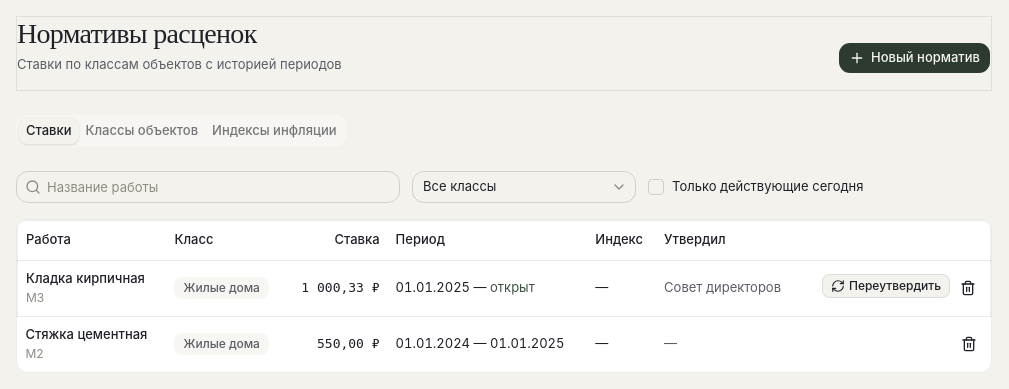
Test case: Экран «Нормативы» (§7.3) › фильтр «действующие сегодня» отсекает закрытый период
The width and height of the screenshot is (1009, 389).
Check: the text "Стяжка цементная" is shown, box [26, 325, 158, 344]
Именно checkbox: Label с тем же текстом тоже находится по имени.
Click the checkbox named "Только действующие сегодня" at point(656, 187), box [648, 179, 664, 195]
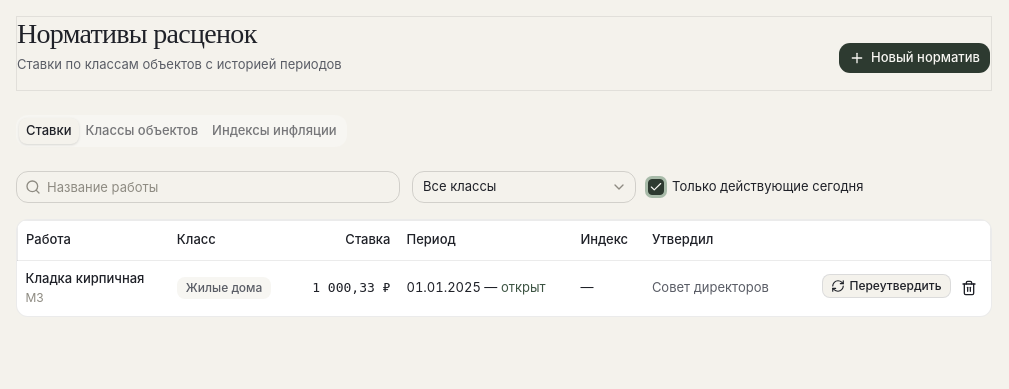
Check: the text "Кладка кирпичная" is shown, box [26, 269, 161, 288]
Check: the text "Стяжка цементная" is gone
